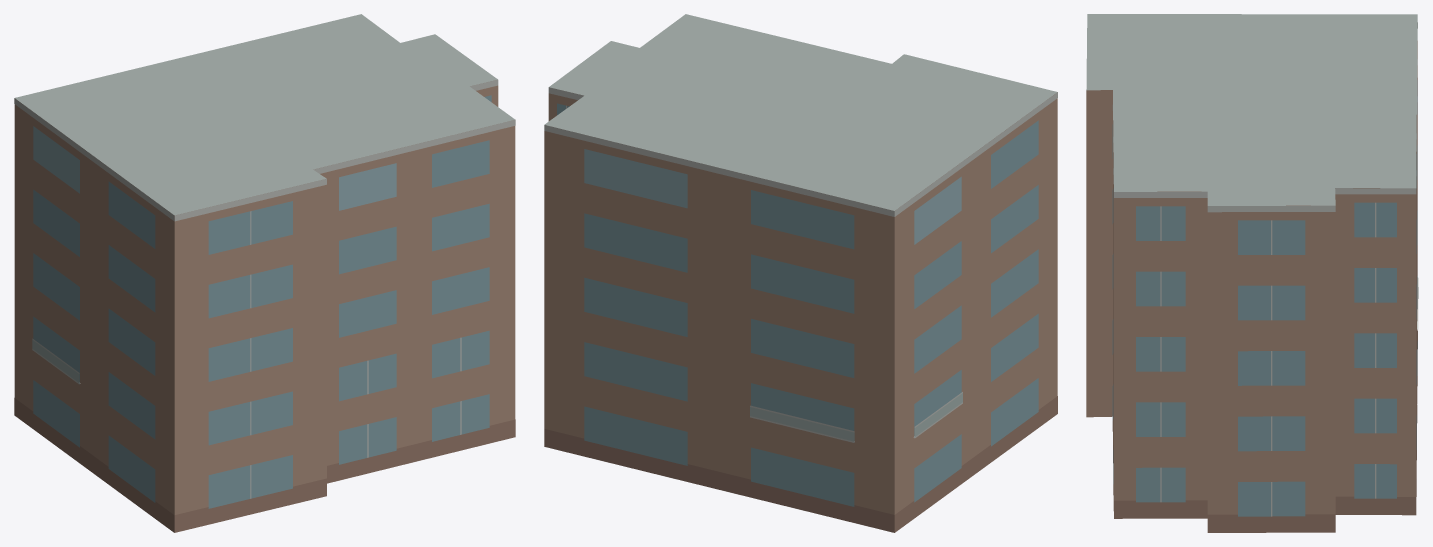
The model's file is survey-upis-32820433.glb.
3 renders of one model, left to right at view 1: azimuth 30°, elevation 25°; view 2: azimuth 150°, elevation 25°; view 3: azimuth 270°, elevation 25°, orthographic. The views are drawn at different scales.
Parts seen in each view (by area): view 1: survey-upis-32820433.tmp; view 2: survey-upis-32820433.tmp; view 3: survey-upis-32820433.tmp.
Part boxes in pixels (x1=…): survey-upis-32820433.tmp: x1=14, y1=14, x2=515, y2=532; survey-upis-32820433.tmp: x1=544, y1=14, x2=1057, y2=532; survey-upis-32820433.tmp: x1=1086, y1=14, x2=1418, y2=532.
Size of the model in its own units: 16.28 by 12.9 by 11.89.
